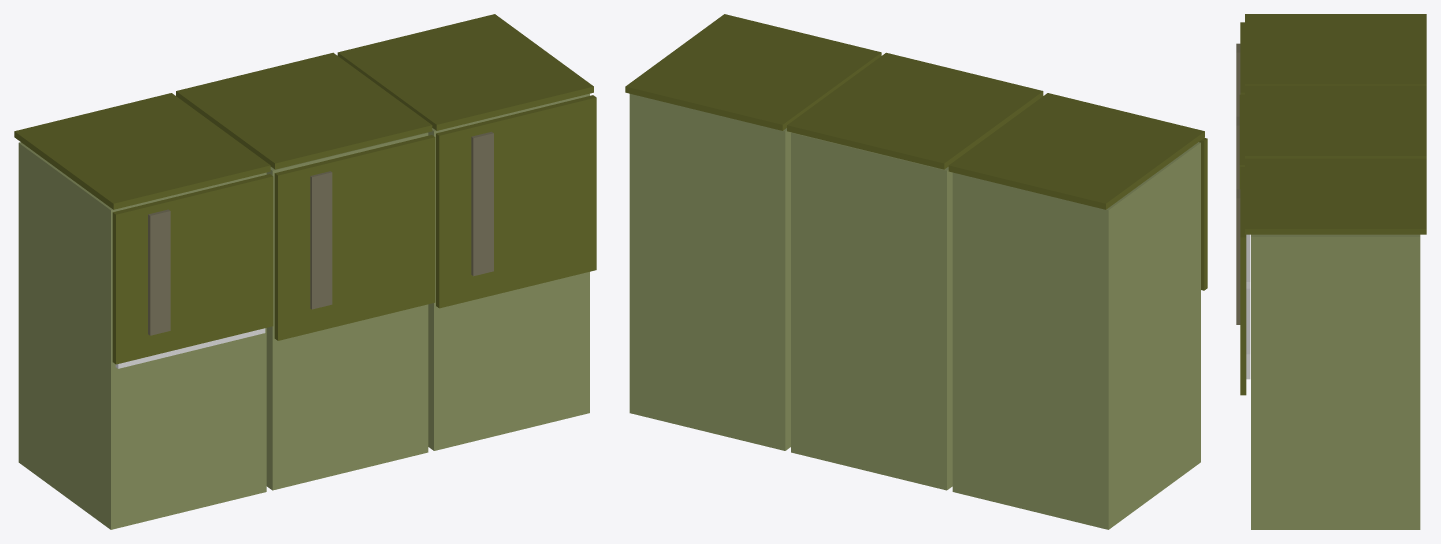
Rendered from SM_HescoCorto3_v4_Red_e0_Sano_LOD1.fbx.
The picture shows the model from 3 angles, left to right: view 1: azimuth 30°, elevation 25°; view 2: azimuth 150°, elevation 25°; view 3: azimuth 270°, elevation 25°; orthographic projection. The views are drawn at different scales.
Visible parts, largest first — view 1: SM_hesco_piezas_v96_LOD1; view 2: SM_hesco_piezas_v96_LOD1; view 3: SM_hesco_piezas_v96_LOD1.
Boxes of the visible parts, bbox=[...] form: SM_hesco_piezas_v96_LOD1: bbox=[14, 14, 596, 529]; SM_hesco_piezas_v96_LOD1: bbox=[625, 14, 1207, 529]; SM_hesco_piezas_v96_LOD1: bbox=[1236, 14, 1426, 529].
Size of the model in its own units: 3.3 by 2.16 by 1.23.
